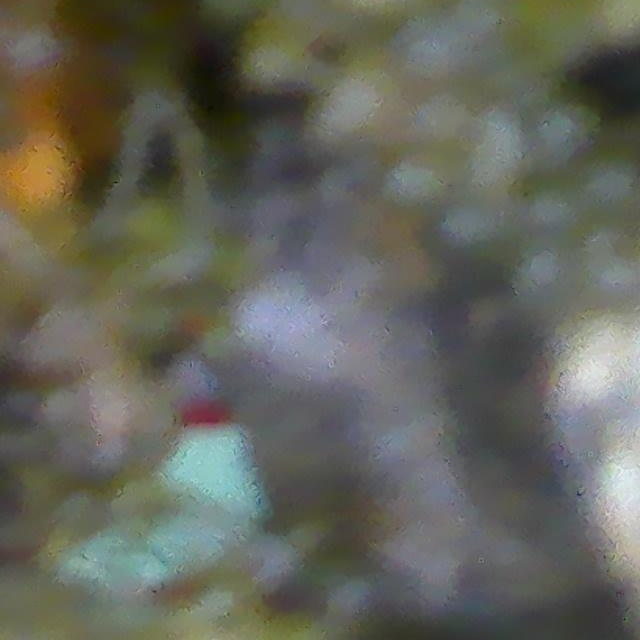SeaGrape: (395, 4, 480, 86), (235, 17, 317, 98), (512, 243, 579, 312), (383, 151, 447, 212), (441, 198, 504, 257)
